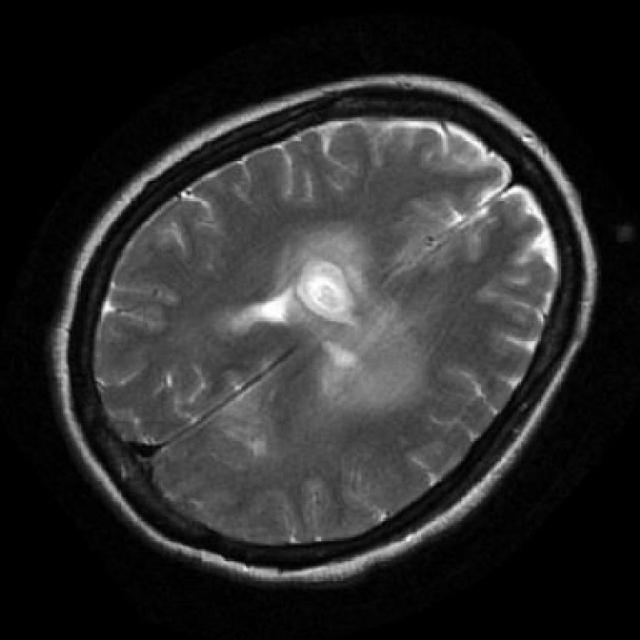Brain-Tumor: (290, 240, 381, 342)
